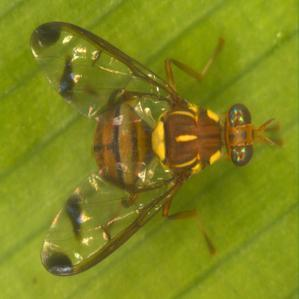melon fly: (4, 7, 284, 299)
